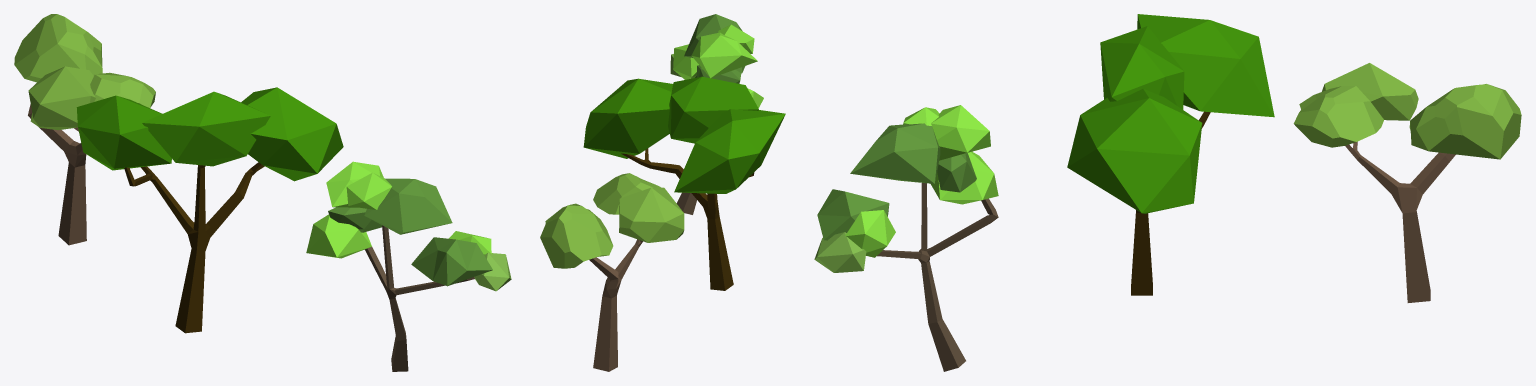
The model's file is tree_collection.fbx.
3 views of the same model, side by side, from view 1: azimuth 30°, elevation 25°; view 2: azimuth 150°, elevation 25°; view 3: azimuth 270°, elevation 25° (orthographic). The views are drawn at different scales.
Parts seen in each view (by area): view 1: Icosphere.009, Icosphere.010, Icosphere.008, Plane.001, Leaves, Icosphere.003, Leaves.002, Trunk, Icosphere.002, Plane, Icosphere.001, Leaves.001 (+5 smaller); view 2: Icosphere.008, Icosphere.010, Icosphere.009, Leaves, Leaves.002, Trunk, Plane.001, Icosphere.004, Leaves.001, Icosphere.003, Icosphere.006, Icosphere.007 (+2 smaller); view 3: Icosphere.010, Icosphere.008, Leaves, Icosphere.009, Leaves.001, Trunk, Icosphere.003, Plane, Leaves.002, Icosphere.004, Icosphere.002, Plane.001 (+4 smaller).
Boxes of the visible parts, x1,y1,x2,y2 form: Icosphere.009: (142,91,270,166); Icosphere.010: (241,87,343,181); Icosphere.008: (76,95,171,170); Plane.001: (124,162,264,333); Leaves: (14,14,102,82); Icosphere.003: (364,178,452,234); Leaves.002: (28,66,95,130); Trunk: (28,104,86,245); Icosphere.002: (411,237,492,286); Plane: (364,225,474,371); Icosphere.001: (306,214,371,258); Leaves.001: (90,72,155,107); Icosphere.008: (674,109,785,193); Icosphere.010: (583,78,673,158); Icosphere.009: (668,76,758,143); Leaves: (540,203,613,268); Leaves.002: (619,187,684,242); Trunk: (589,239,642,371); Plane.001: (621,148,754,290); Icosphere.004: (691,32,757,78); Leaves.001: (593,173,660,214); Icosphere.003: (684,14,742,57); Icosphere.006: (673,44,698,79); Icosphere.007: (718,24,754,53); Icosphere.010: (1067,88,1202,213); Icosphere.008: (1137,14,1274,117); Leaves: (1409,84,1521,159); Icosphere.009: (1100,26,1184,109); Leaves.001: (1293,86,1383,147); Trunk: (1345,141,1455,302); Icosphere.003: (850,123,940,183); Plane: (877,183,998,371); Leaves.002: (1322,63,1418,120); Icosphere.004: (931,105,990,160); Icosphere.002: (817,189,889,240); Plane.001: (1131,111,1210,295).
Bounding box in the file's own units: 1620 × 1417 × 3364.
